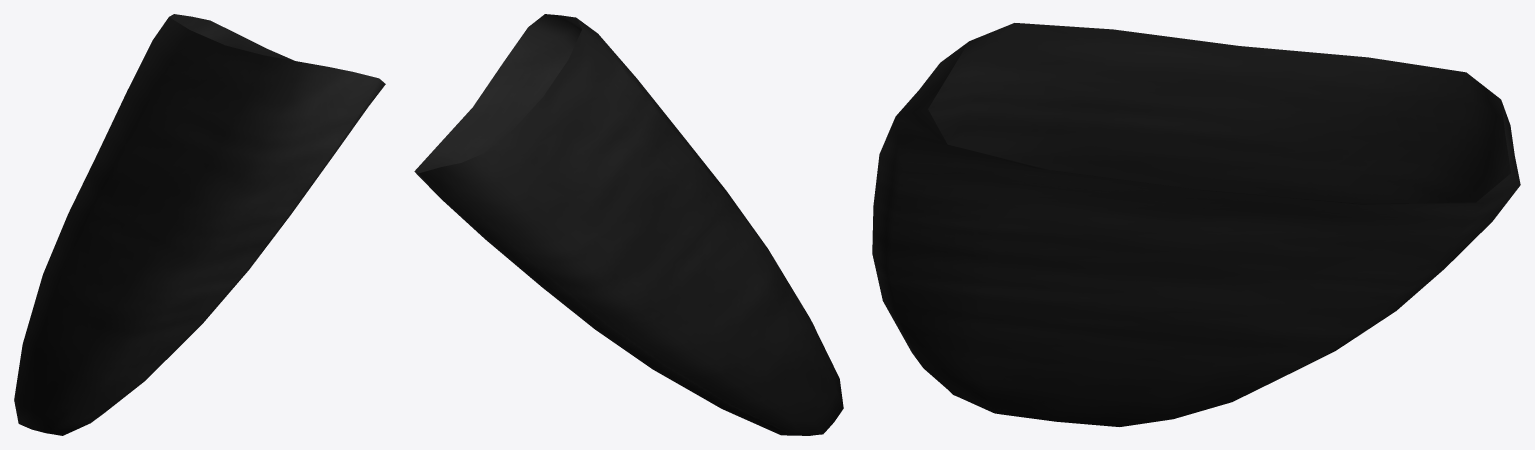
Rendered from rarm.obj.
3 renders of one model, left to right at view 1: azimuth 30°, elevation 25°; view 2: azimuth 150°, elevation 25°; view 3: azimuth 270°, elevation 25°, orthographic. The views are drawn at different scales.
Parts seen in each view (by area): view 1: brazo_der; view 2: brazo_der; view 3: brazo_der.
Part boxes in pixels (box(x1,y1,x2,y2)): brazo_der: box(14, 14, 385, 435); brazo_der: box(414, 14, 843, 435); brazo_der: box(872, 23, 1520, 426).
Size of the model in its own units: 3.7 by 3.46 by 3.17.
